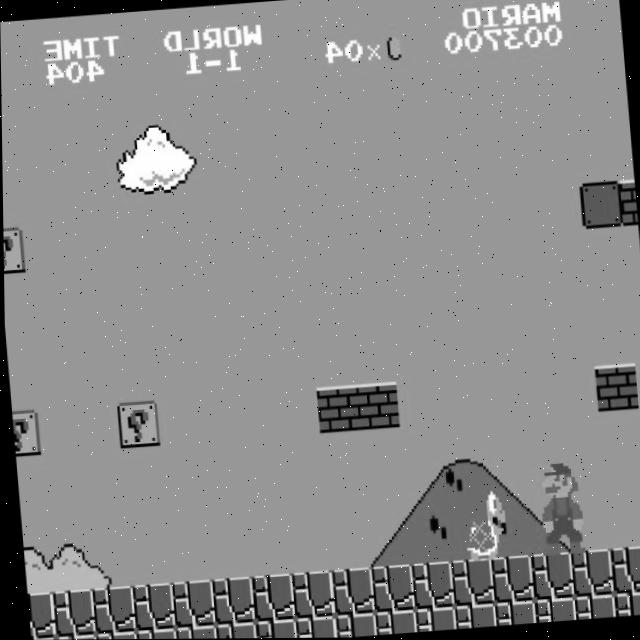0- big_mario: (536, 460, 586, 557)
1- brick_block: (314, 384, 359, 434), (354, 381, 399, 430), (593, 363, 637, 413), (619, 180, 637, 226)
10- koopa: (460, 491, 509, 562)
13- mystery_block: (115, 400, 159, 449), (10, 408, 40, 456), (3, 225, 25, 273)
17- undestructible_block: (528, 552, 573, 601), (488, 555, 533, 604), (249, 573, 294, 622), (209, 576, 254, 625), (169, 579, 214, 628), (129, 582, 174, 631), (89, 585, 134, 634), (568, 548, 612, 598), (449, 558, 493, 607), (409, 561, 453, 610), (369, 564, 413, 613), (329, 567, 373, 616), (289, 570, 333, 619), (50, 588, 94, 637), (607, 545, 640, 595), (25, 590, 55, 638), (412, 606, 455, 633), (571, 594, 615, 620), (531, 597, 575, 623), (492, 600, 535, 626), (452, 603, 495, 629), (372, 609, 415, 635), (332, 612, 375, 638), (292, 615, 335, 638), (252, 618, 295, 639), (611, 591, 640, 617), (212, 622, 255, 639), (172, 624, 215, 639), (132, 627, 175, 639), (92, 630, 135, 640), (52, 633, 95, 640)
3- empty_block: (578, 181, 623, 230)
